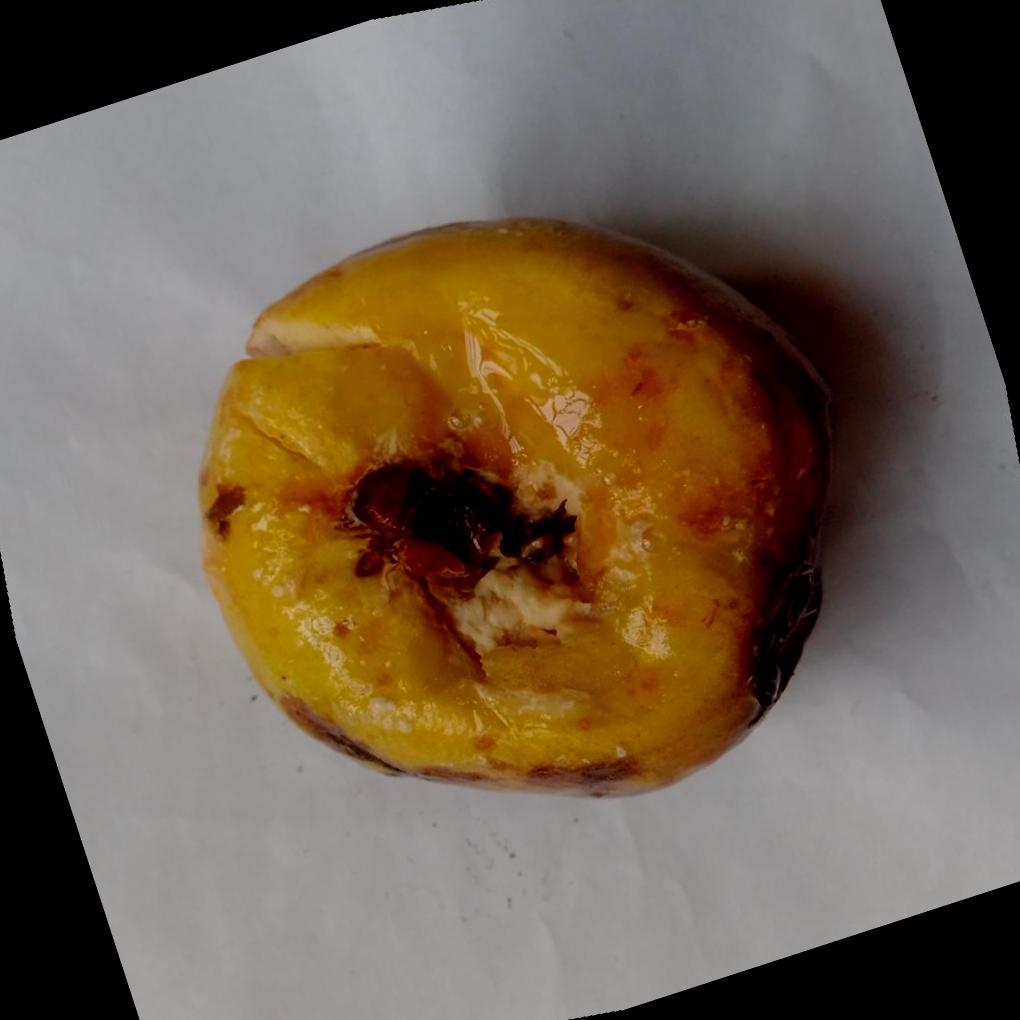FreshOrange: (196, 218, 833, 801)
